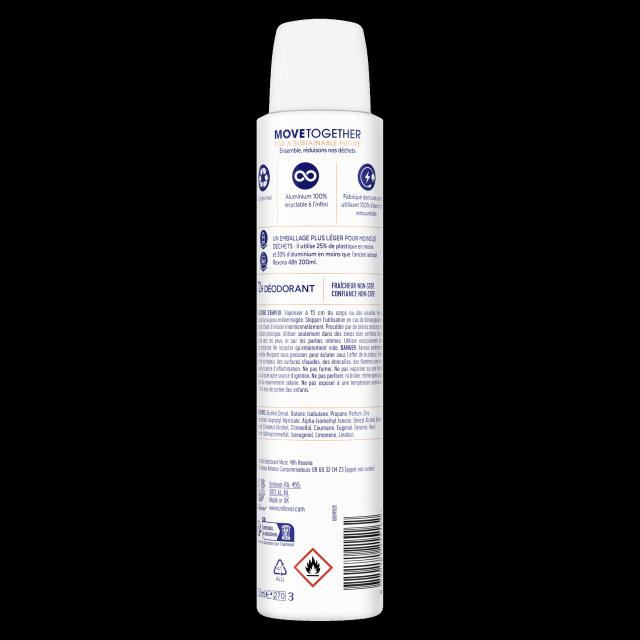GHS_Symbol_FLAME: (294, 547, 333, 587)
